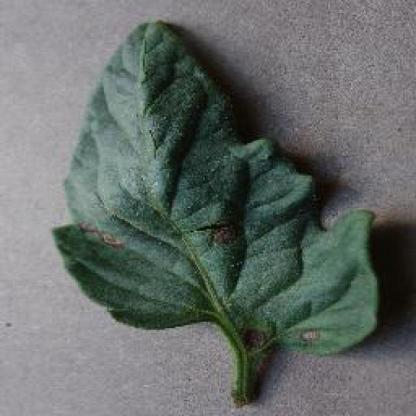Tomato_Blight: (57, 24, 377, 348)
